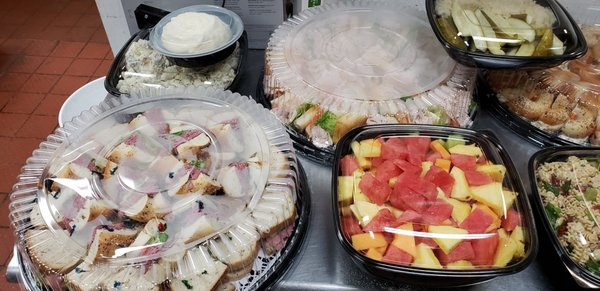sushi: (333, 122, 538, 280), (427, 0, 588, 74), (527, 144, 600, 289)
